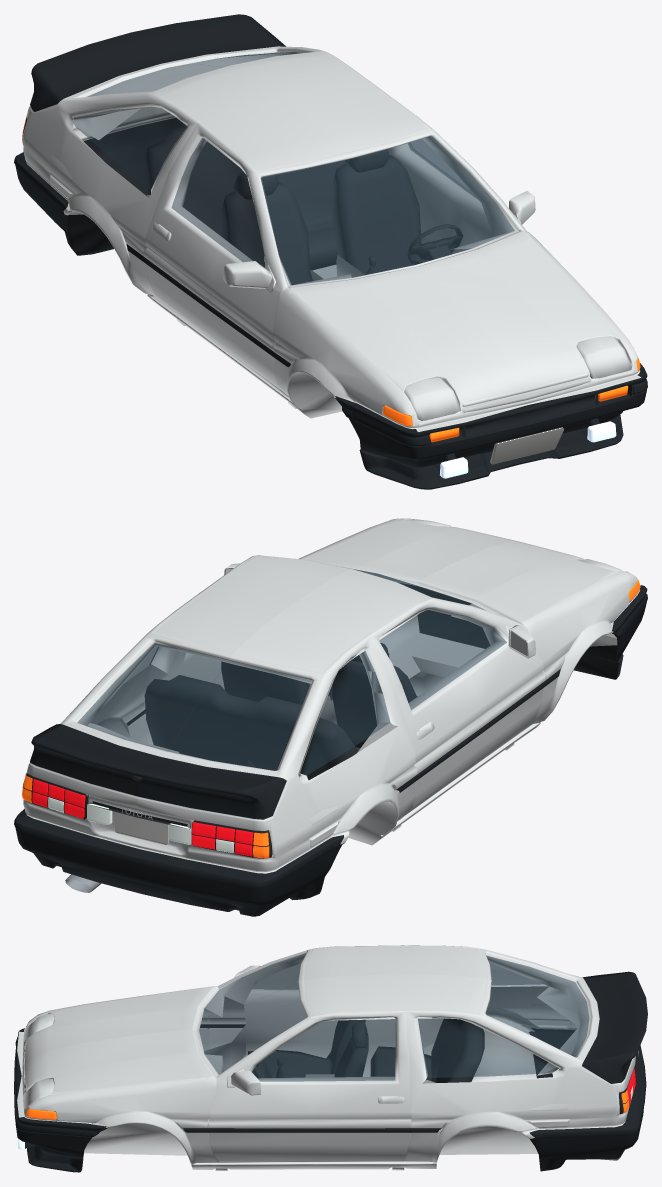
3 renders of one model, top to bottom at view 1: azimuth 30°, elevation 25°; view 2: azimuth 150°, elevation 25°; view 3: azimuth 270°, elevation 25°, orthographic. The views are drawn at different scales.
Parts seen in each view (by area): view 1: body, front glass, seats, glass, Headlight_L_Popup, backglass, front number plate, steer, fog lamp, front turn signals; view 2: body, backglass, seats, glass, TailLight_R_Reverse_Lower_3, back number plate, backLight, number light, front glass; view 3: body, glass, front glass, seats, backglass, Headlight_L_Popup.
Part boxes in pixels (box(x1,y1,x2,y2)): body: box(14, 14, 647, 489); front glass: box(260, 136, 514, 285); seats: box(144, 125, 421, 284); glass: box(73, 106, 477, 267); Headlight_L_Popup: box(404, 336, 631, 420); backglass: box(87, 52, 299, 96); front number plate: box(490, 427, 564, 464); steer: box(407, 224, 463, 264); fog lamp: box(440, 421, 616, 478); front turn signals: box(383, 358, 640, 442); body: box(14, 518, 647, 916); backglass: box(77, 643, 311, 770); seats: box(144, 643, 417, 780); glass: box(125, 609, 506, 775); TailLight_R_Reverse_Lower_3: box(22, 774, 269, 858); back number plate: box(115, 812, 169, 845); backLight: box(23, 773, 272, 858); number light: box(87, 804, 191, 844); front glass: box(346, 567, 485, 610); body: box(14, 945, 647, 1172); glass: box(252, 963, 558, 1081); front glass: box(199, 953, 306, 1074); seats: box(263, 1018, 484, 1082); backglass: box(486, 956, 589, 1057); Headlight_L_Popup: box(23, 1013, 56, 1119).
Bounding box in the file's own units: 1.87 × 1.17 × 4.25.
